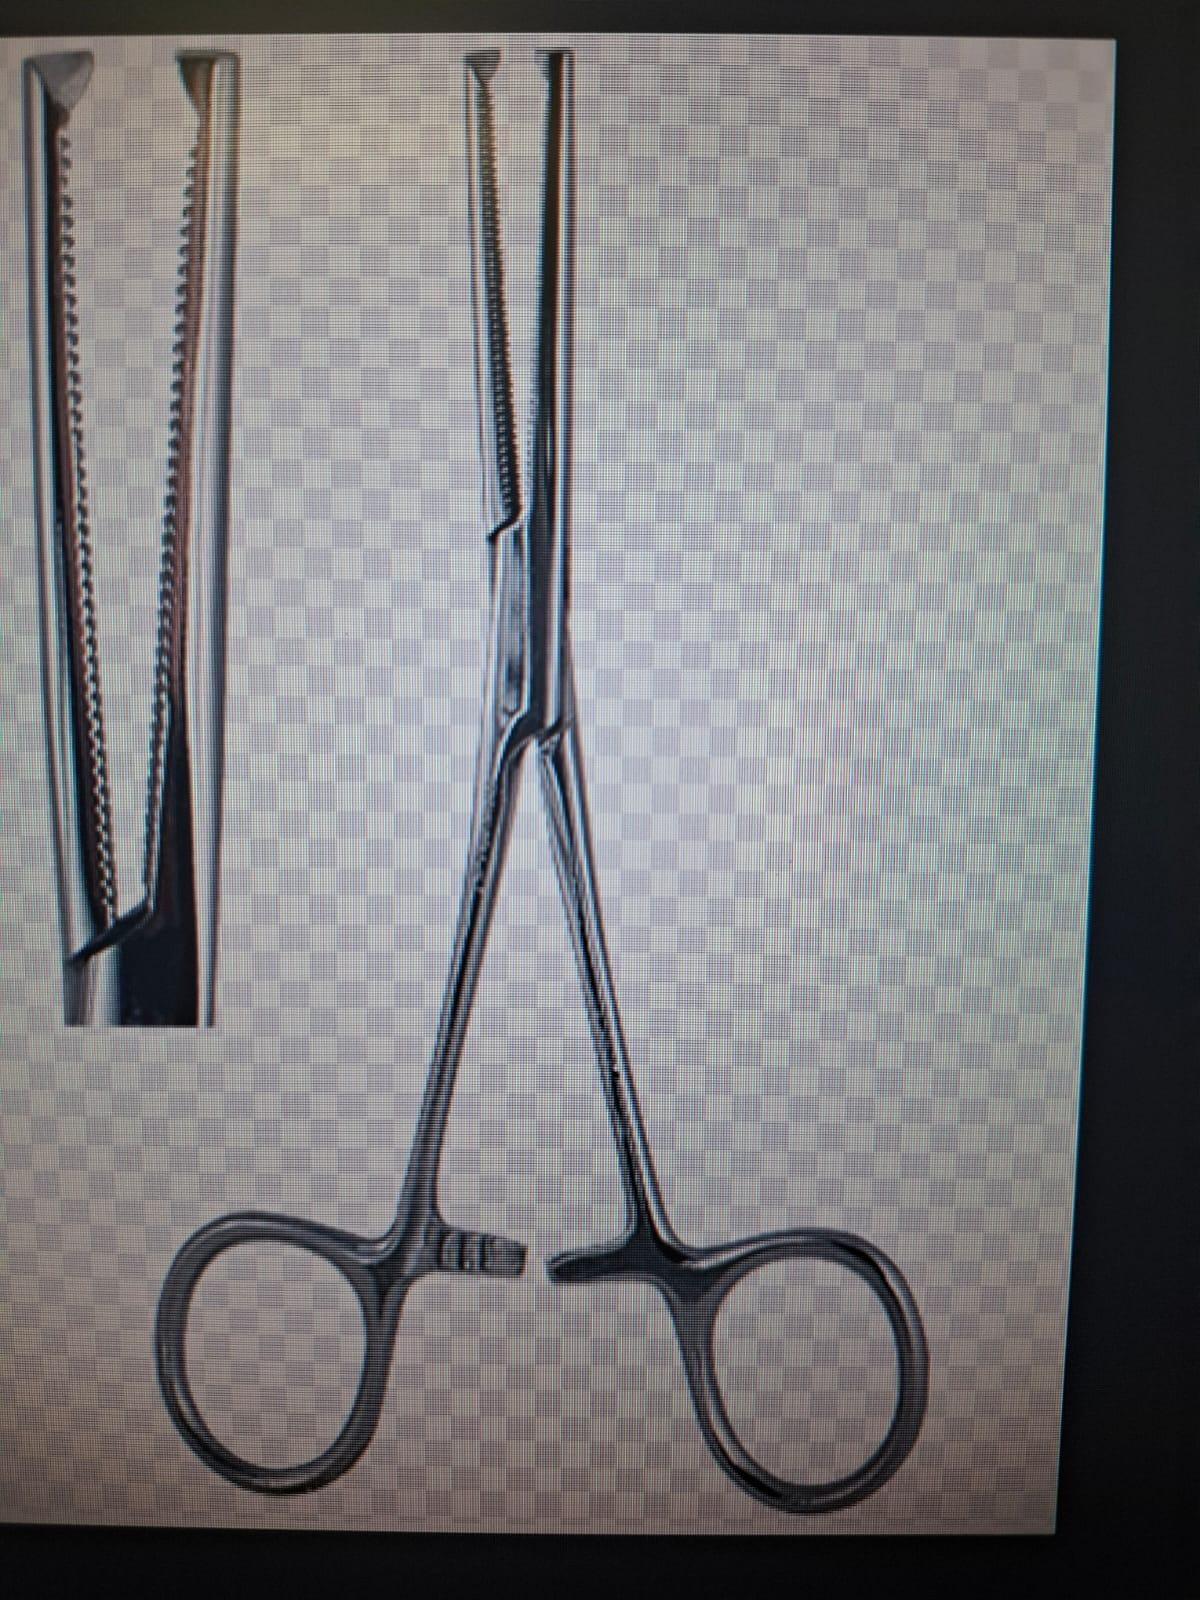Kocher Forceps: (142, 28, 952, 1525)
